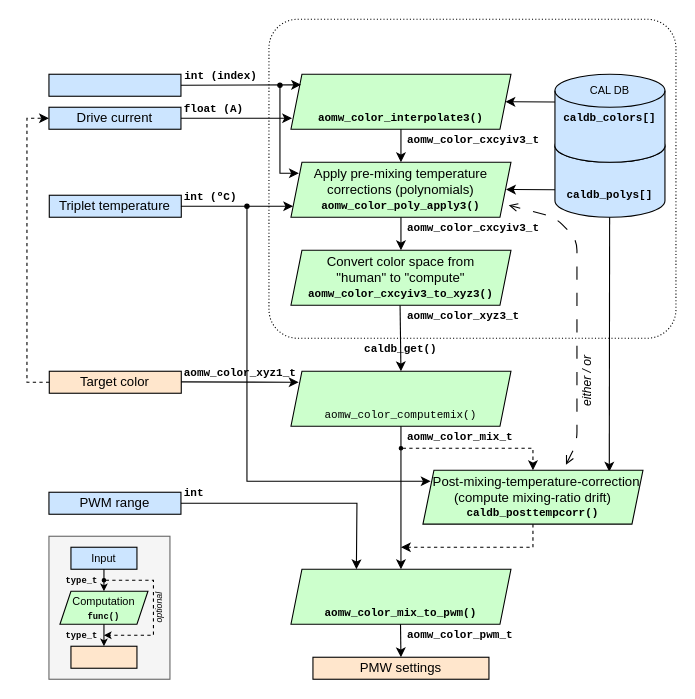
Some shapes in this 695 by 699 pixel diagram are drawn without their labels. Each missing label, with the box of its shape:
Calibration database (abstracting drive currents and temperature): (268, 18, 676, 338)
Clip and map mixing ratio to PWM range: (290, 568, 511, 624)
Compute mix-ratio to achieve target color: (290, 370, 511, 426)
Interpolate for missing drive currents: (290, 73, 511, 129)
Key data: (70, 645, 137, 668)
Source triplet: (48, 73, 181, 96)
